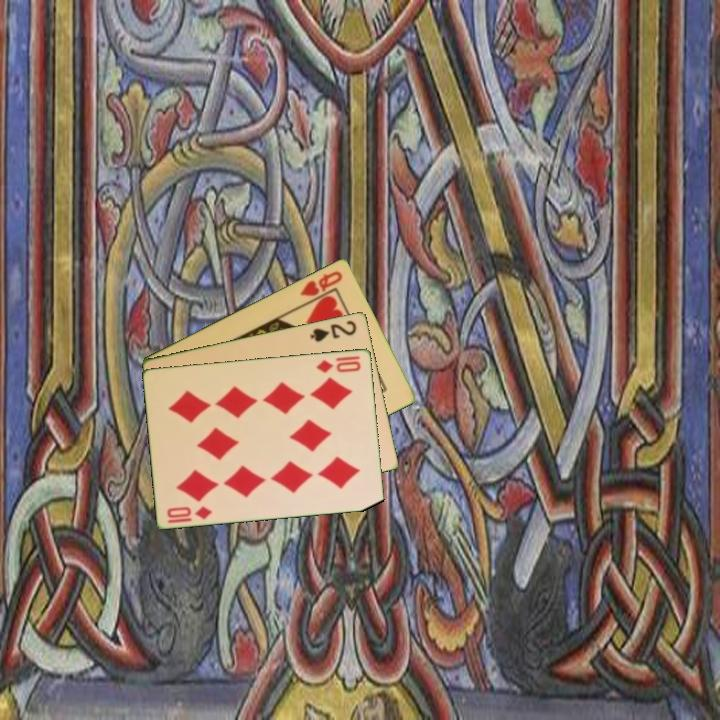10d: (164, 502, 215, 526), (313, 356, 364, 375)
2s: (307, 316, 360, 345)
Qh: (297, 267, 345, 299)
